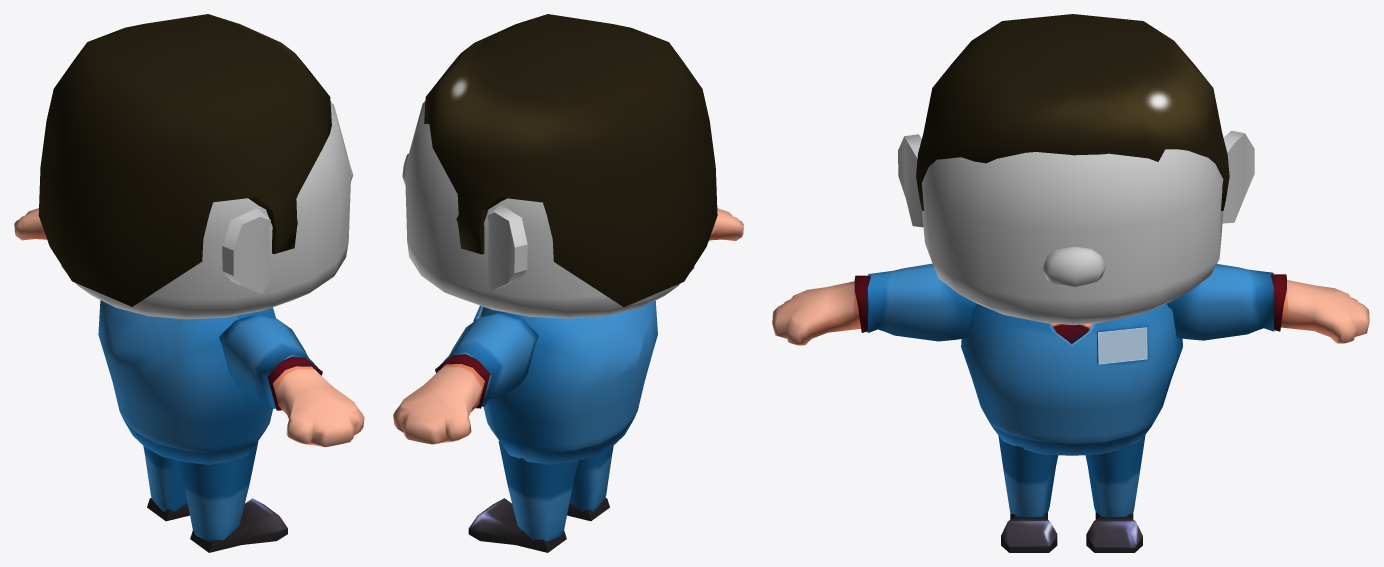
File: Char_Sci_HS_01.fbx
3 renders of one model, left to right at view 1: azimuth 30°, elevation 25°; view 2: azimuth 150°, elevation 25°; view 3: azimuth 270°, elevation 25°, orthographic.
Parts seen in each view (by area): view 1: Hair_Physiology, Body_Physiology, Head_Physiology, R_Arm_Physiology, R_Leg_Physiology, R_Ear_Physiology, L_Leg_Physiology, L_Arm_Physiology; view 2: Hair_Physiology, Body_Physiology, Head_Physiology, L_Arm_Physiology, L_Leg_Physiology, L_Ear_Physiology, R_Leg_Physiology, R_Arm_Physiology; view 3: Head_Physiology, Hair_Physiology, Body_Physiology, R_Arm_Physiology, L_Arm_Physiology, L_Leg_Physiology, R_Leg_Physiology, L_Ear_Physiology, Nose_Physiology, Nametag_Physiology, R_Ear_Physiology.
Boxes of the visible parts, bbox=[...] form: Hair_Physiology: bbox=[38, 14, 331, 306]; Body_Physiology: bbox=[98, 300, 276, 464]; Head_Physiology: bbox=[61, 101, 351, 319]; R_Arm_Physiology: bbox=[219, 315, 364, 447]; R_Leg_Physiology: bbox=[178, 441, 287, 552]; R_Ear_Physiology: bbox=[222, 208, 270, 294]; L_Leg_Physiology: bbox=[143, 446, 189, 521]; L_Arm_Physiology: bbox=[14, 208, 46, 240]; Hair_Physiology: bbox=[424, 14, 717, 306]; Body_Physiology: bbox=[480, 300, 657, 464]; Head_Physiology: bbox=[405, 101, 694, 318]; L_Arm_Physiology: bbox=[393, 313, 538, 444]; L_Leg_Physiology: bbox=[468, 441, 578, 552]; L_Ear_Physiology: bbox=[487, 204, 527, 290]; R_Leg_Physiology: bbox=[567, 446, 613, 521]; R_Arm_Physiology: bbox=[709, 208, 743, 240]; Head_Physiology: bbox=[921, 149, 1223, 324]; Hair_Physiology: bbox=[916, 14, 1229, 210]; Body_Physiology: bbox=[961, 303, 1182, 455]; R_Arm_Physiology: bbox=[772, 263, 976, 345]; L_Arm_Physiology: bbox=[1166, 264, 1369, 343]; L_Leg_Physiology: bbox=[1085, 435, 1145, 552]; R_Leg_Physiology: bbox=[998, 435, 1058, 552]; L_Ear_Physiology: bbox=[1222, 130, 1254, 223]; Nose_Physiology: bbox=[1042, 247, 1105, 287]; Nametag_Physiology: bbox=[1097, 326, 1147, 364]; R_Ear_Physiology: bbox=[898, 134, 923, 227].
Bounding box in the file's own units: 4.23 × 6.82 × 7.72.
